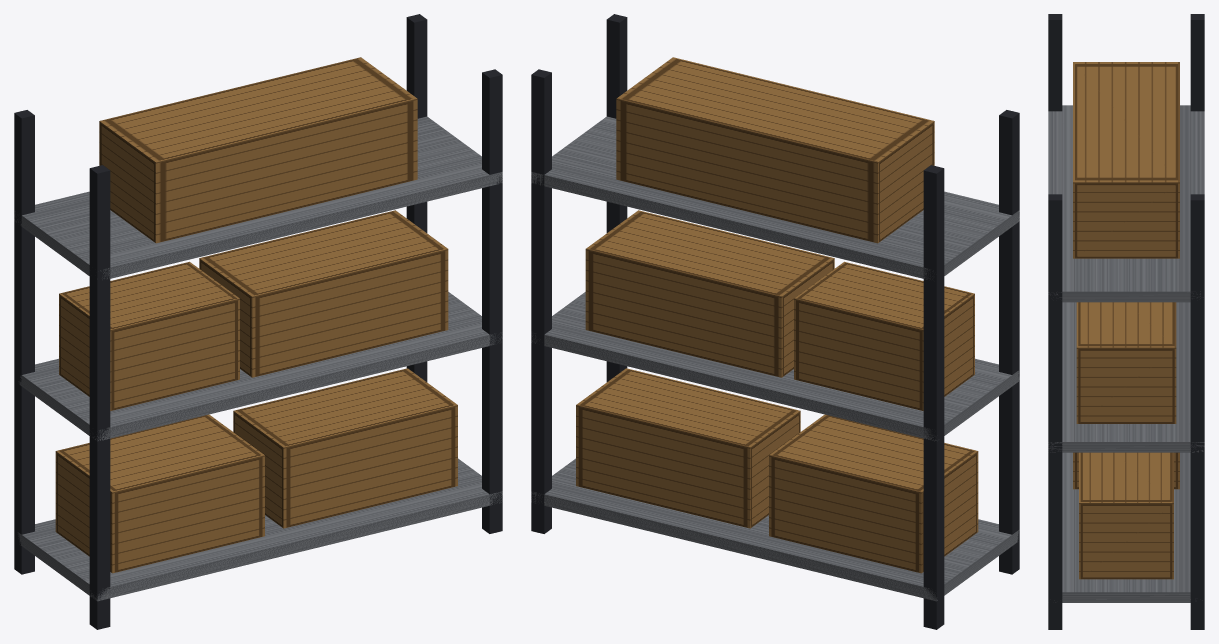
The model's file is rack.obj.
The picture shows the model from 3 angles, left to right: view 1: azimuth 30°, elevation 25°; view 2: azimuth 150°, elevation 25°; view 3: azimuth 270°, elevation 25°; orthographic projection. The views are drawn at different scales.
Bounding box in the file's own units: 1.86 × 2 × 0.66.
3 materials, 3 textured.
